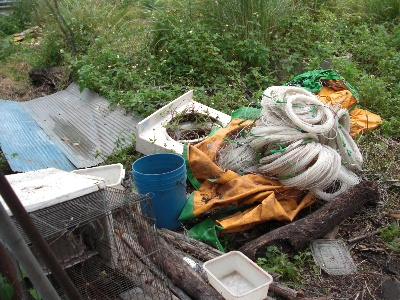box: (203, 248, 274, 300)
bucket: (129, 153, 188, 228)
plastic_bag: (184, 66, 384, 253), (189, 174, 269, 215), (183, 206, 262, 238), (261, 188, 316, 221)
